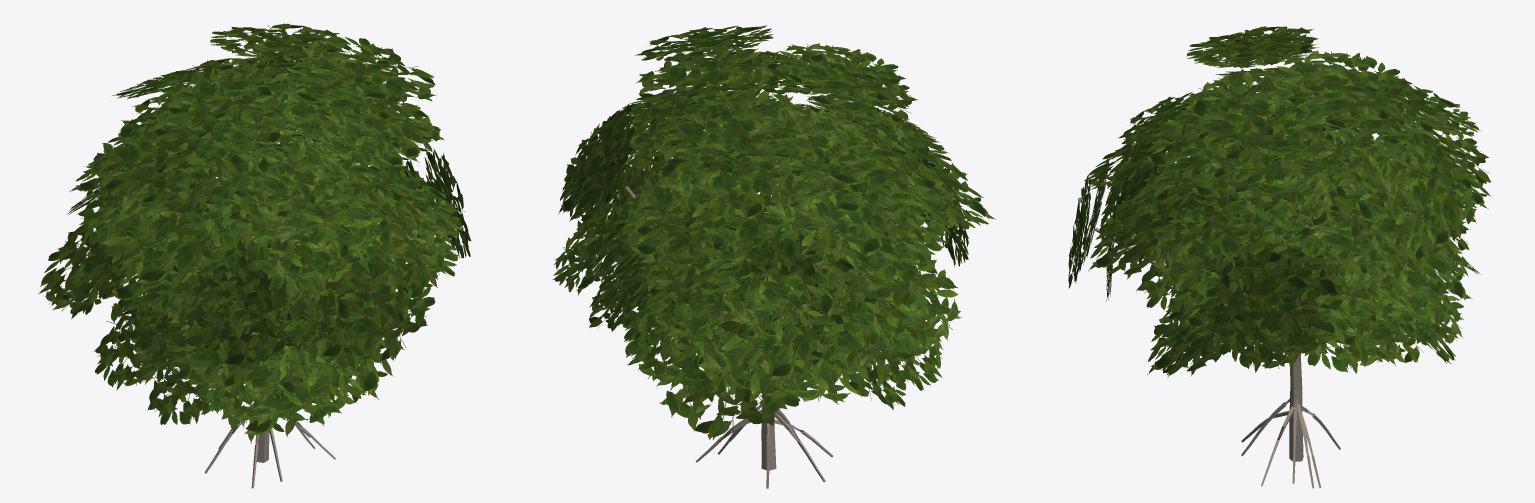
File: mangrove_b.glb
3 renders of one model, left to right at view 1: azimuth 30°, elevation 25°; view 2: azimuth 150°, elevation 25°; view 3: azimuth 270°, elevation 25°, orthographic.
Parts seen in each view (by area): view 1: mangrove_b; view 2: mangrove_b; view 3: mangrove_b.
Part boxes in pixels (left/top/right/bottom): mangrove_b: left=38, top=23, right=471, bottom=488; mangrove_b: left=552, top=25, right=996, bottom=488; mangrove_b: left=1068, top=26, right=1491, bottom=488.
Bounding box in the file's own units: 9.85 × 9.58 × 9.64.
2 materials, 1 textured.
